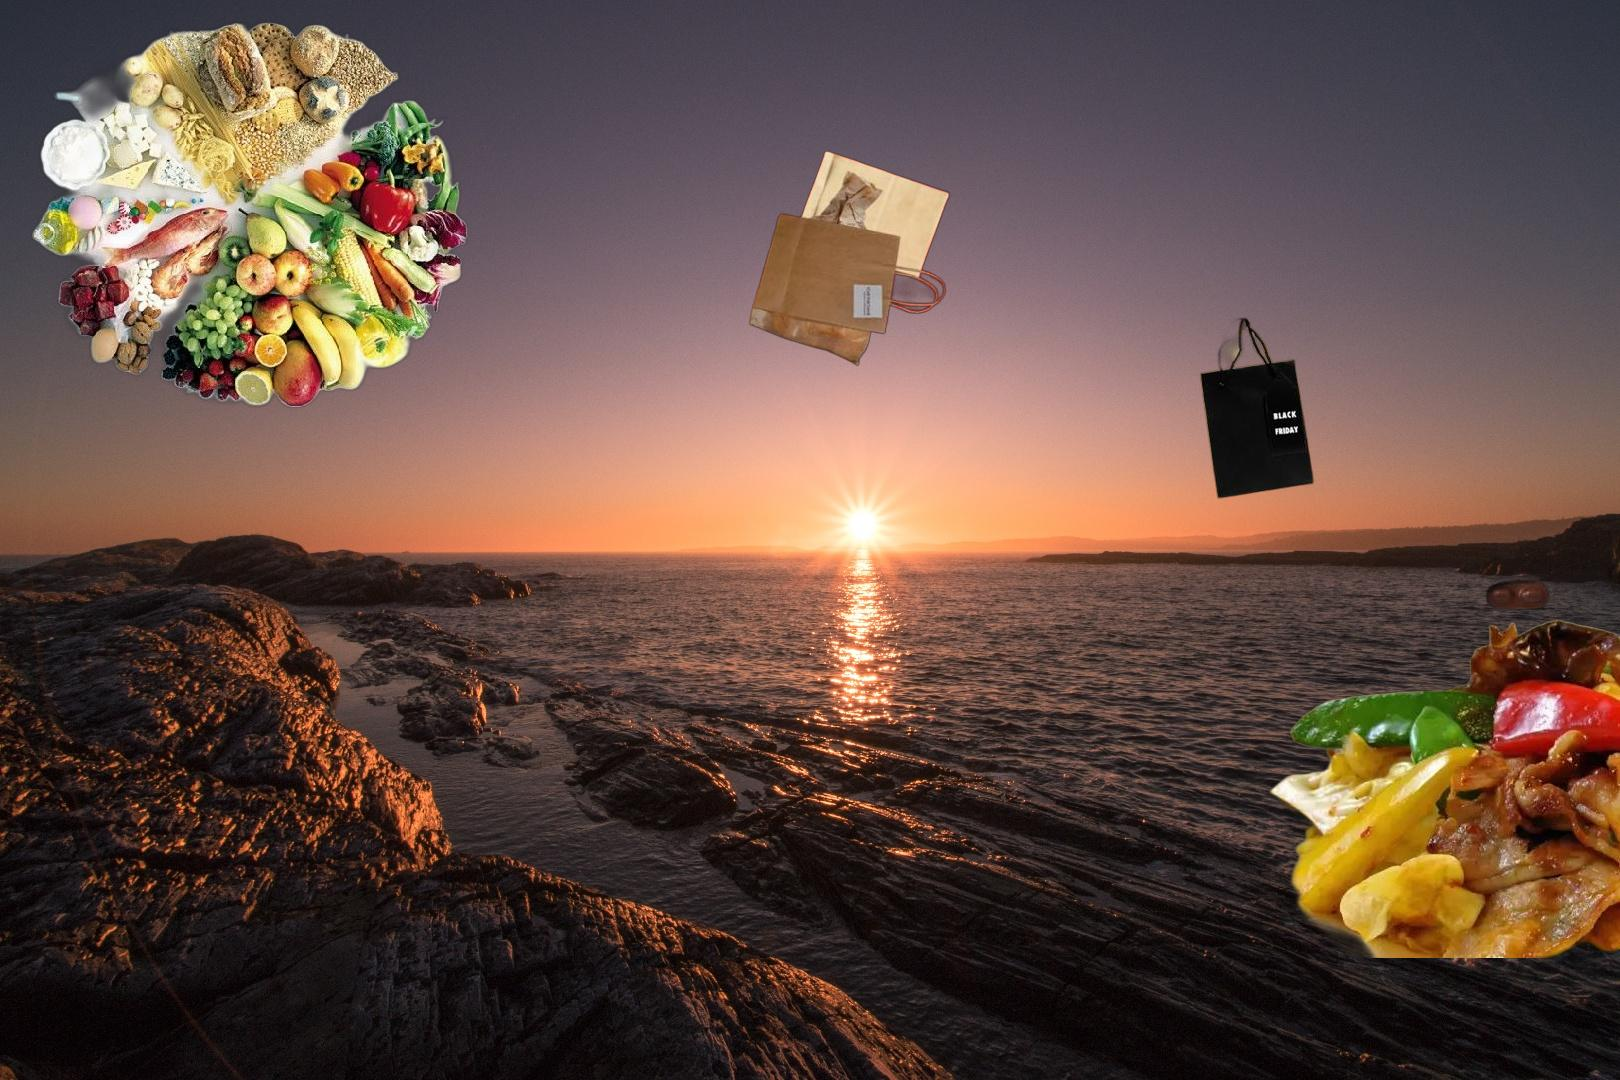biological: (27, 20, 471, 410), (1266, 618, 1620, 958)
metal-cans: (1349, 703, 1526, 796)
paper-bag: (747, 148, 952, 366), (1197, 316, 1317, 501)
trash: (1483, 579, 1552, 614)
